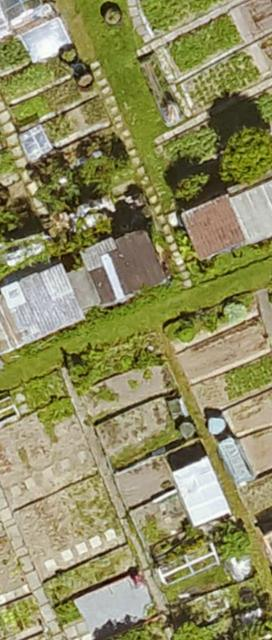tree: (218, 126, 271, 184), (175, 172, 210, 207), (211, 525, 248, 557)
